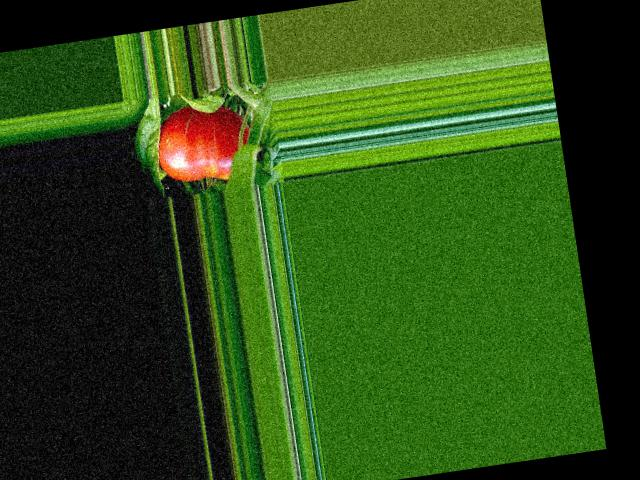tomato: (151, 98, 257, 189)
